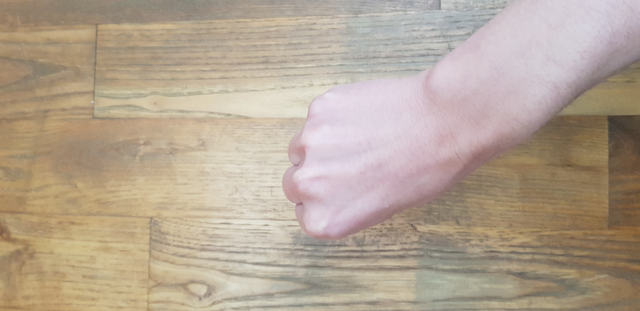Rock: (248, 69, 478, 246)
